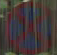No Stopping: (6, 2, 53, 51)
